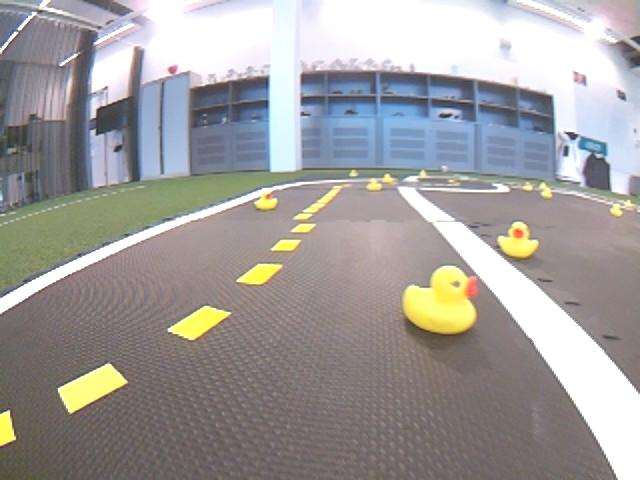Duckies: (402, 266, 478, 335), (498, 221, 540, 259), (255, 192, 279, 210), (367, 180, 382, 191), (611, 205, 624, 216), (540, 190, 552, 199), (382, 173, 392, 183), (522, 183, 532, 190), (538, 183, 548, 190), (420, 171, 428, 178), (624, 201, 633, 207), (349, 171, 357, 176)
